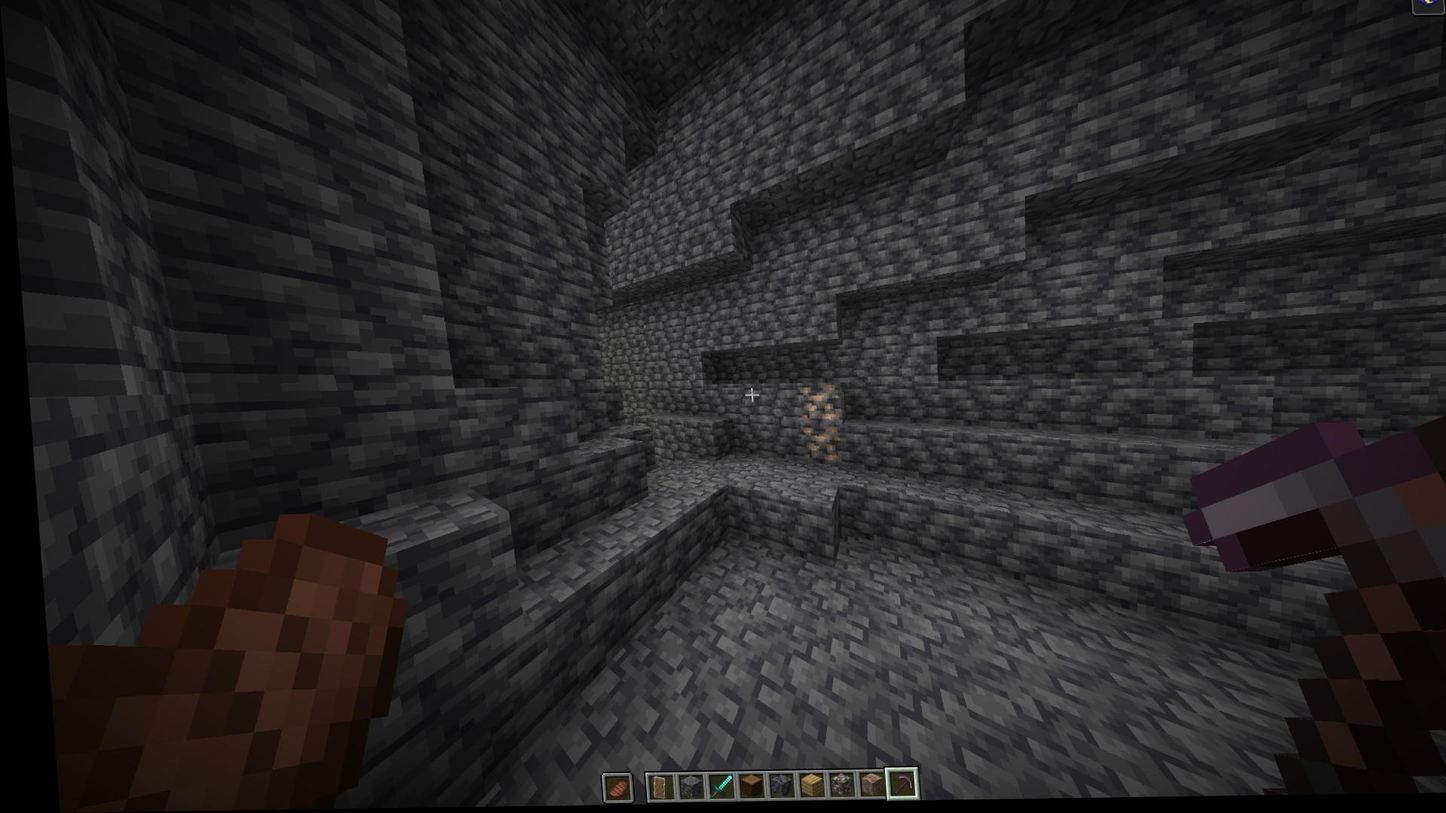iron ore: (789, 384, 836, 423), (792, 425, 838, 463)
